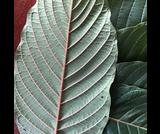kratom-red: (14, 0, 116, 133)
